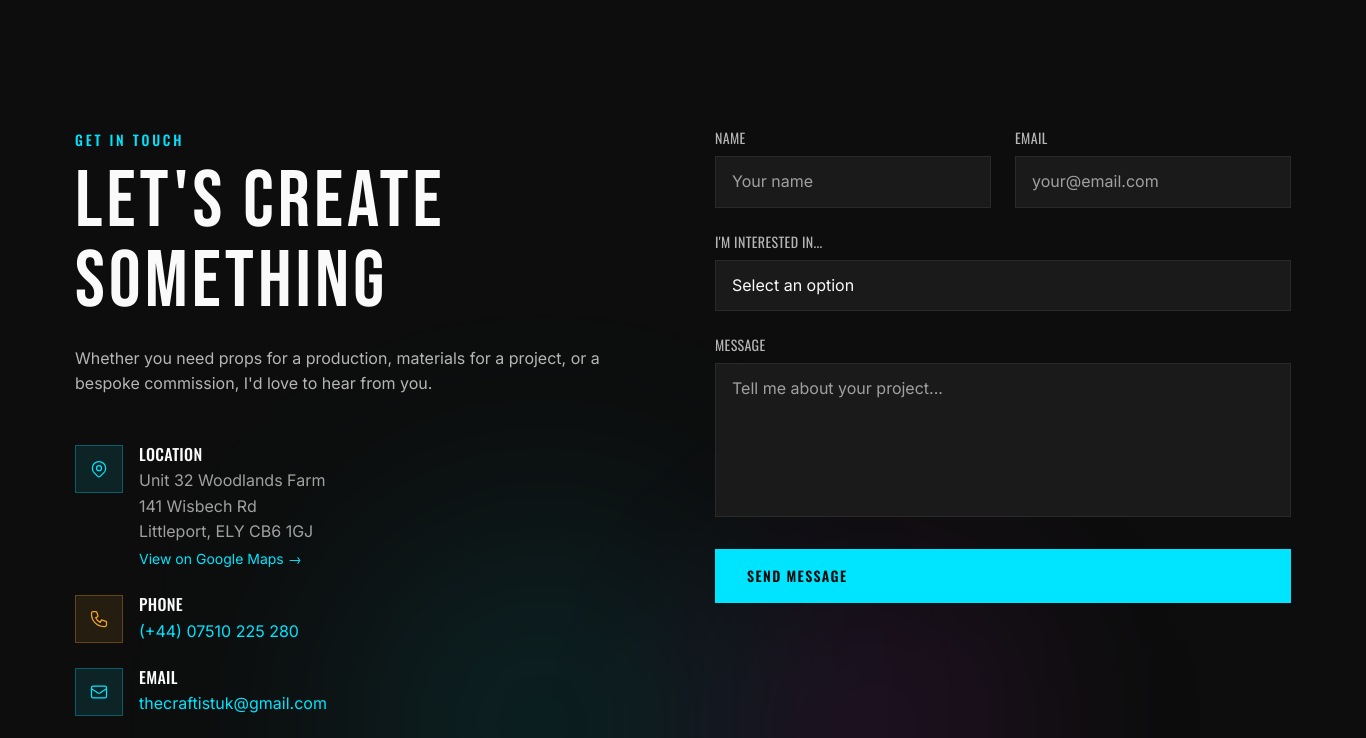
Test case: Contact › posts the form data to the configured endpoint and shows success
The image size is (1366, 738).
In the field labelled "Name": [853, 182] box [715,156,991,208], type "Test User"
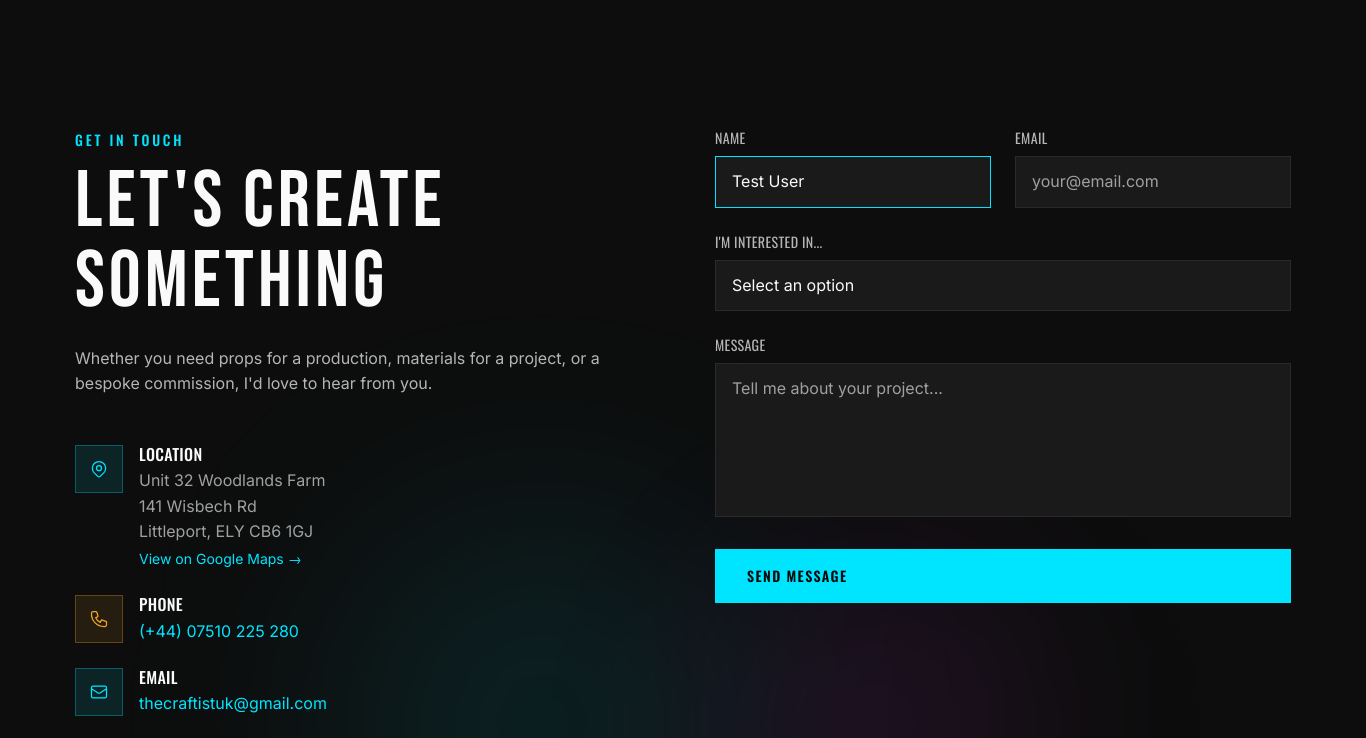
In the field labelled "Email": [1153, 182] box [1015,156,1291,208], type "test@example.com"
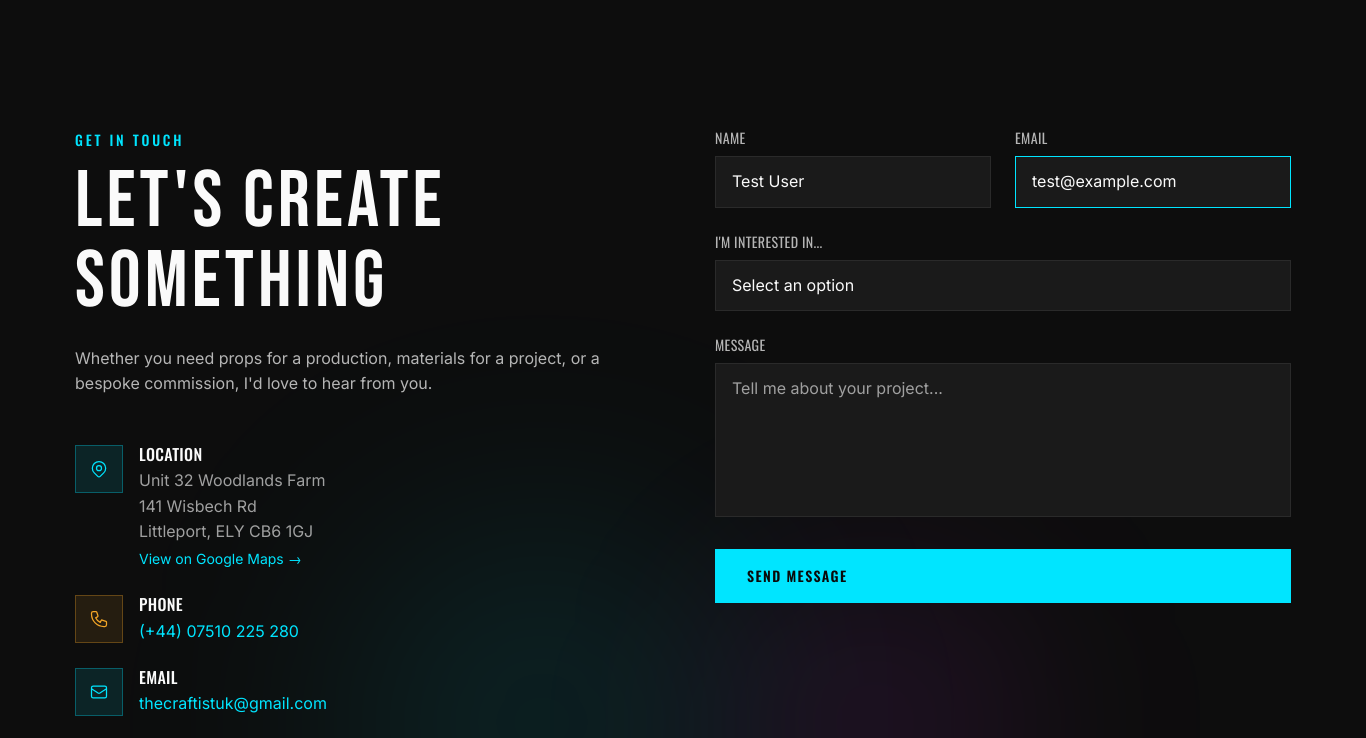
Select "Bespoke Commission" in the dropdown labelled "I'm interested in...": [1003, 285] box [715,260,1291,311]
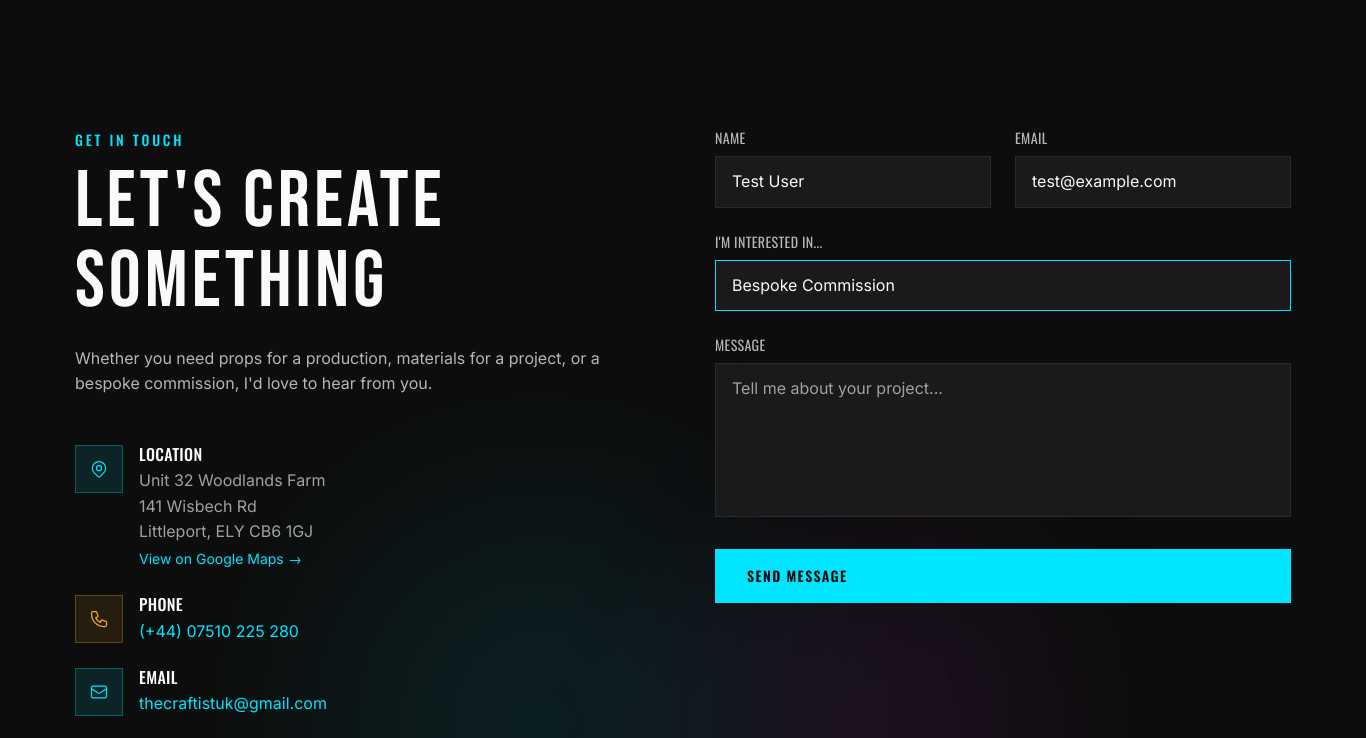
In the text box labelled "Message": [1003, 440] box [715,363,1291,517], type "Hello!"
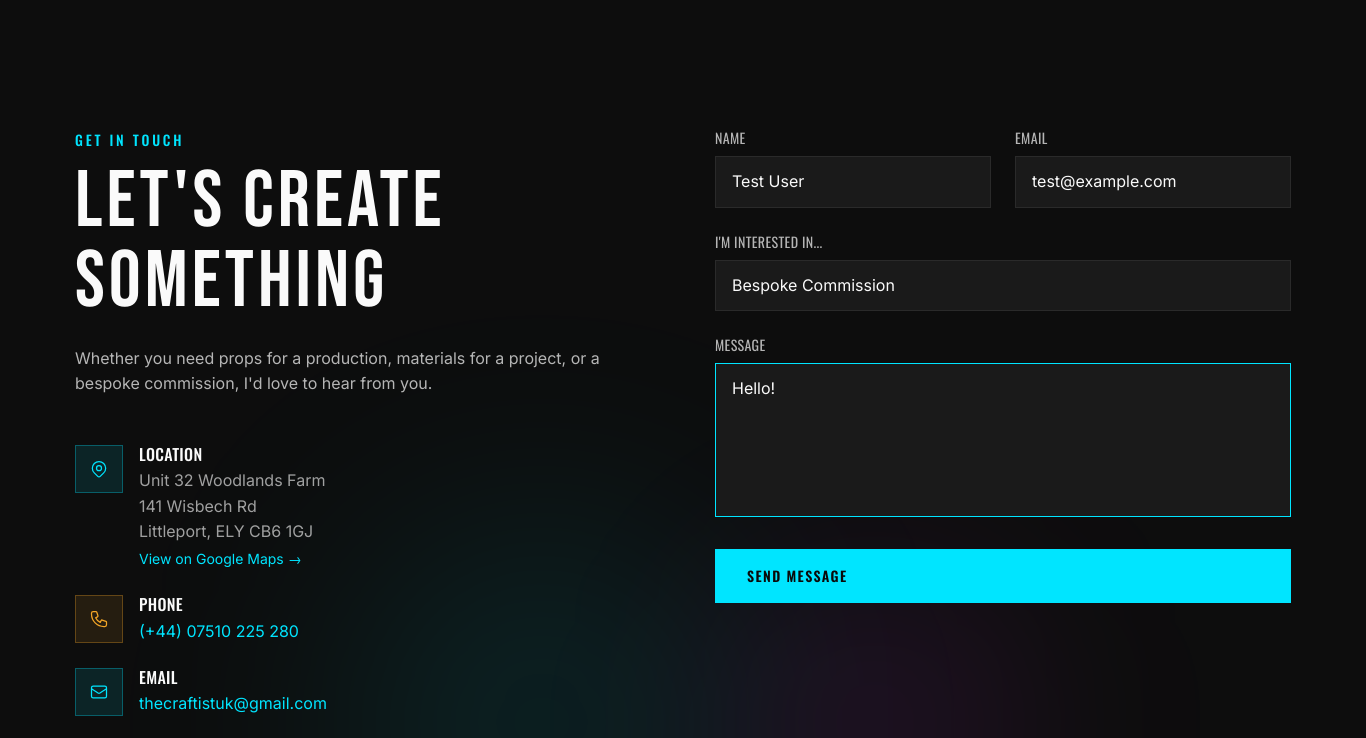
Click the button "Send Message": [797, 575] box [715,549,1291,603]
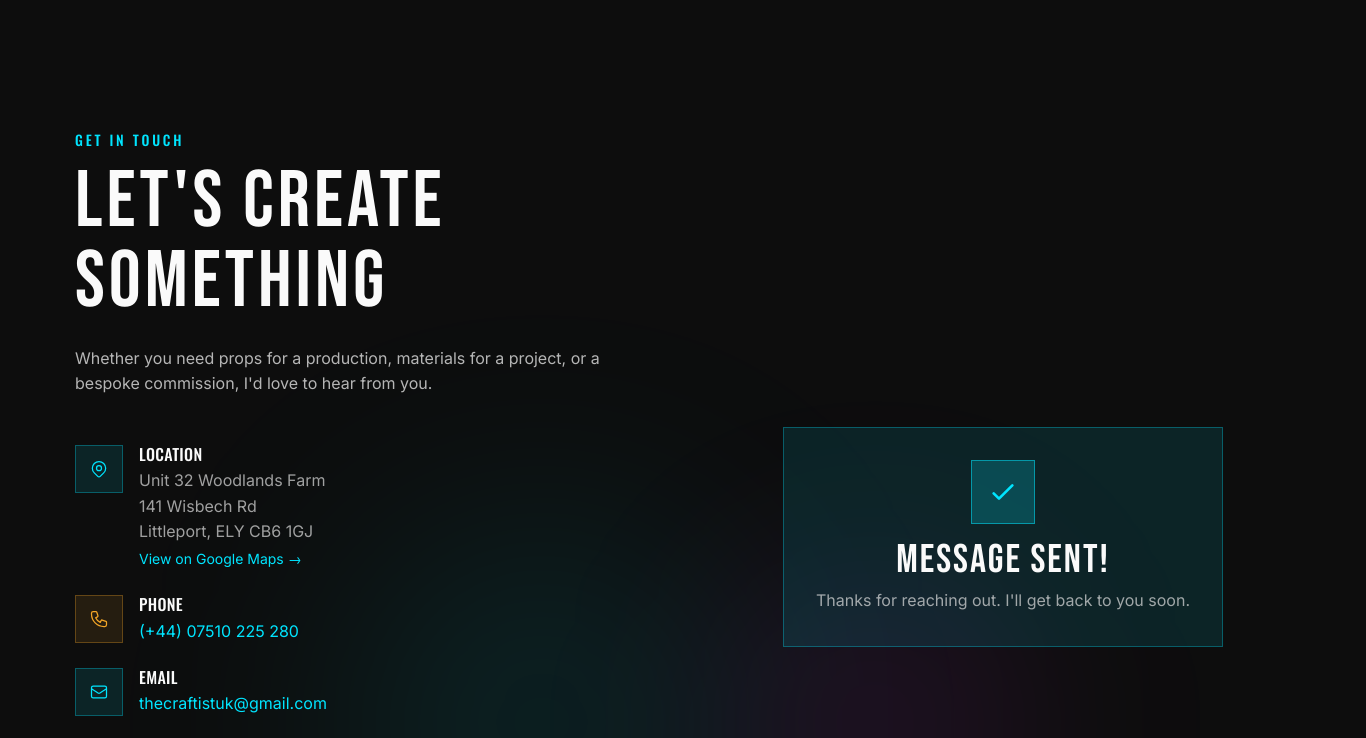
Expected: the heading "MESSAGE SENT!" is shown, [896,536,1110,584]
